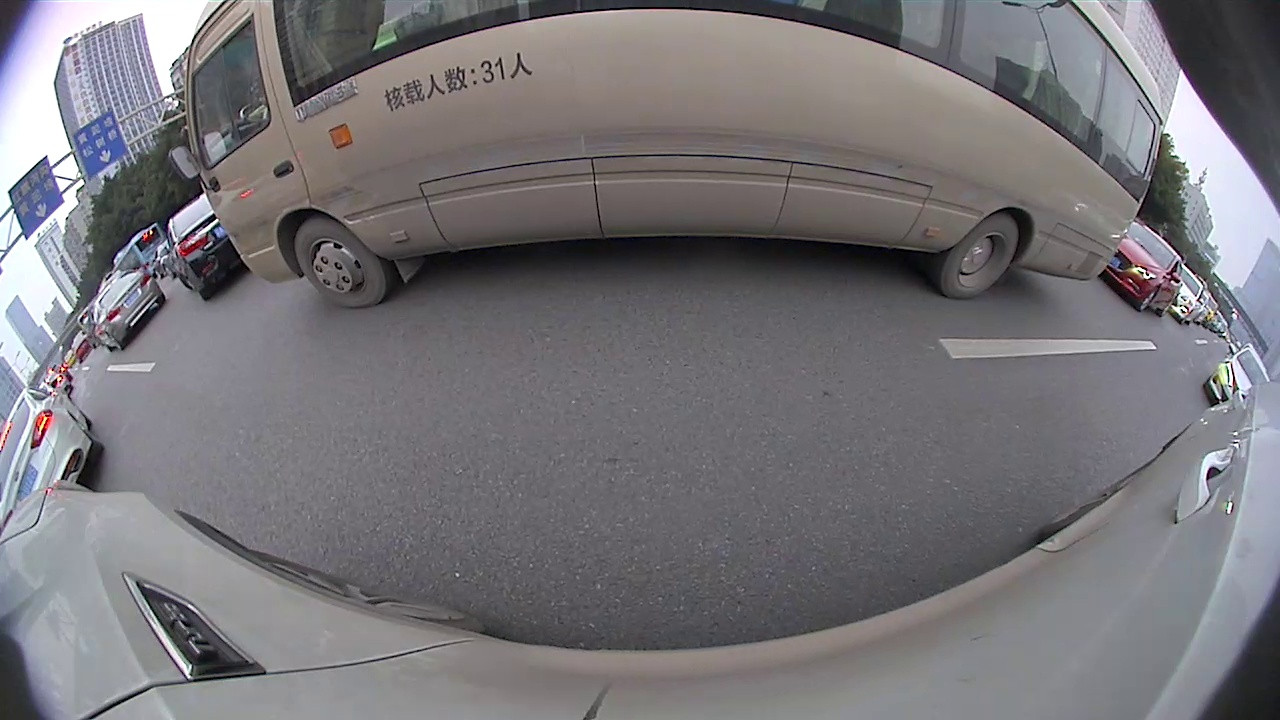bus: (188, 1, 1155, 310)
car: (1, 390, 103, 531), (169, 199, 262, 301), (1105, 220, 1179, 315), (87, 267, 164, 353), (1206, 346, 1274, 401)
front: (293, 219, 387, 306), (1136, 287, 1158, 312)
rear: (938, 212, 1019, 302), (1157, 296, 1175, 315)
